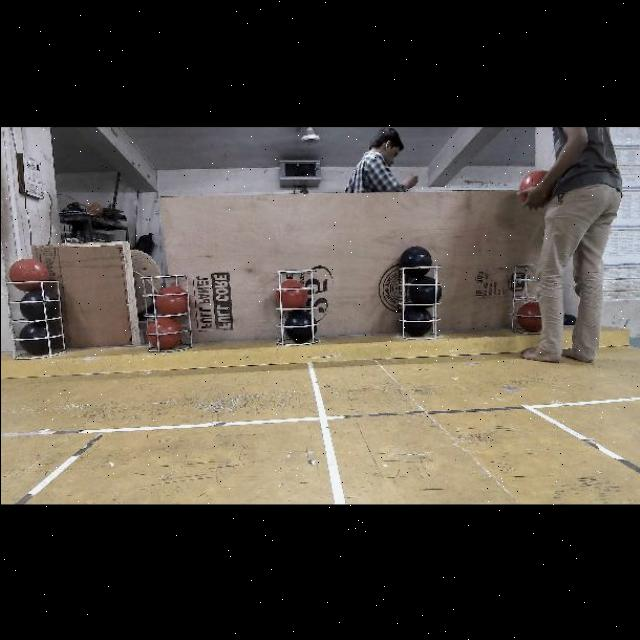P: (19, 321, 55, 353), (399, 245, 431, 277), (20, 290, 56, 318), (402, 306, 434, 334), (408, 278, 442, 304), (278, 313, 308, 342)
R: (8, 257, 48, 291), (146, 316, 178, 348), (154, 287, 188, 315), (280, 282, 312, 310), (520, 304, 536, 330)
S: (2, 272, 62, 360), (142, 270, 194, 354), (394, 262, 442, 340), (274, 265, 316, 345), (510, 267, 548, 337)
